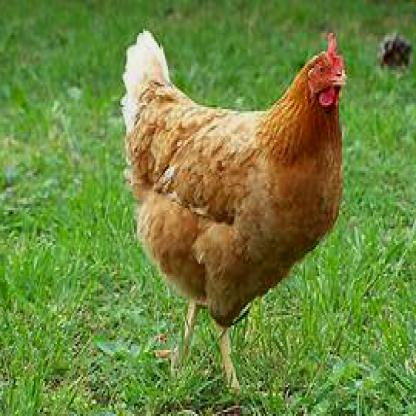chicken: (118, 29, 346, 385)
